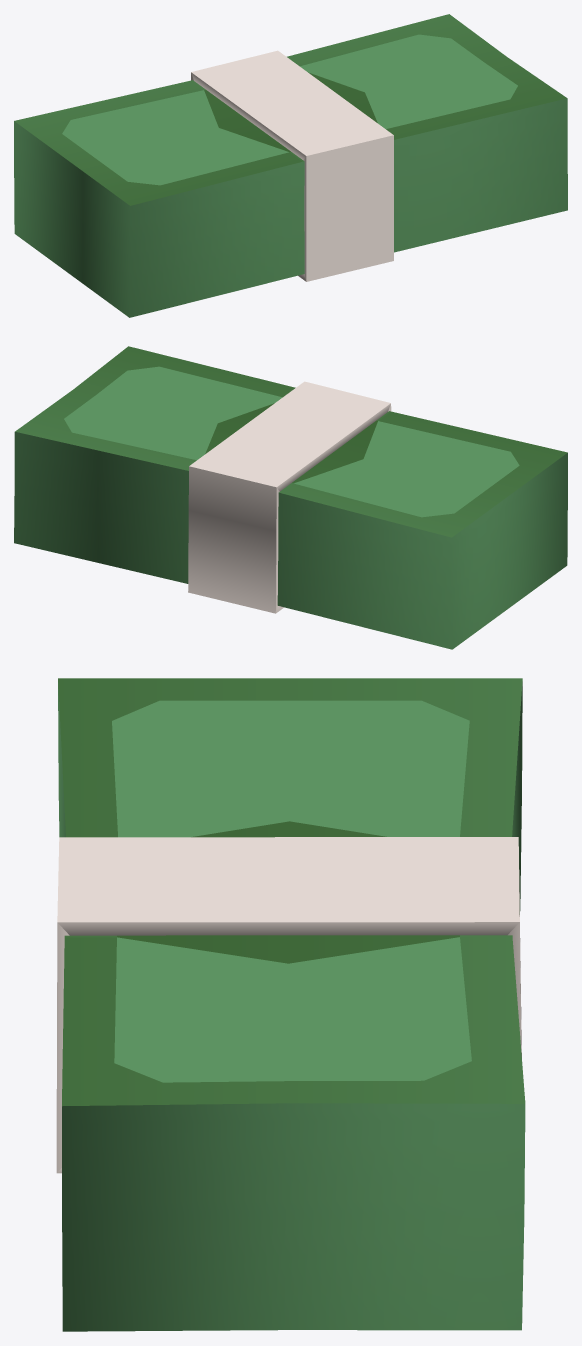
File: money.fbx
The picture shows the model from 3 angles, top to bottom: view 1: azimuth 30°, elevation 25°; view 2: azimuth 150°, elevation 25°; view 3: azimuth 270°, elevation 25°; orthographic projection. The views are drawn at different scales.
Parts seen in each view (by area): view 1: money; view 2: money; view 3: money.
Part boxes in pixels (x1,y1,x2,y2): money: (14, 14, 567, 317); money: (14, 346, 567, 649); money: (56, 678, 525, 1331).
Size of the model in its own units: 0.4535 by 0.124 by 0.2097.
